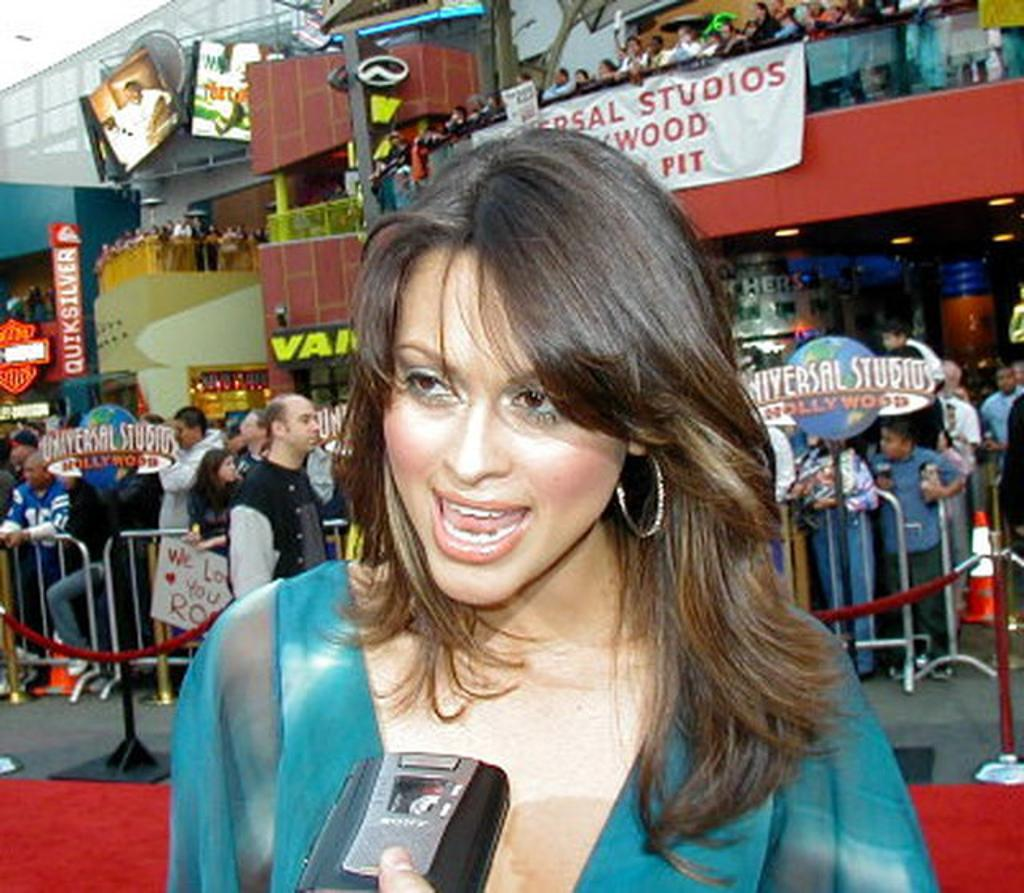face: (384, 256, 629, 606), (286, 404, 321, 453), (880, 429, 904, 460), (240, 414, 258, 442), (174, 422, 191, 450), (24, 462, 43, 486), (997, 371, 1015, 393), (883, 333, 900, 353), (221, 460, 235, 482), (125, 88, 141, 105), (14, 443, 27, 463), (679, 30, 691, 42), (598, 63, 608, 77), (628, 43, 639, 55), (651, 40, 660, 53), (556, 72, 564, 84), (576, 75, 585, 85), (756, 7, 764, 18)
